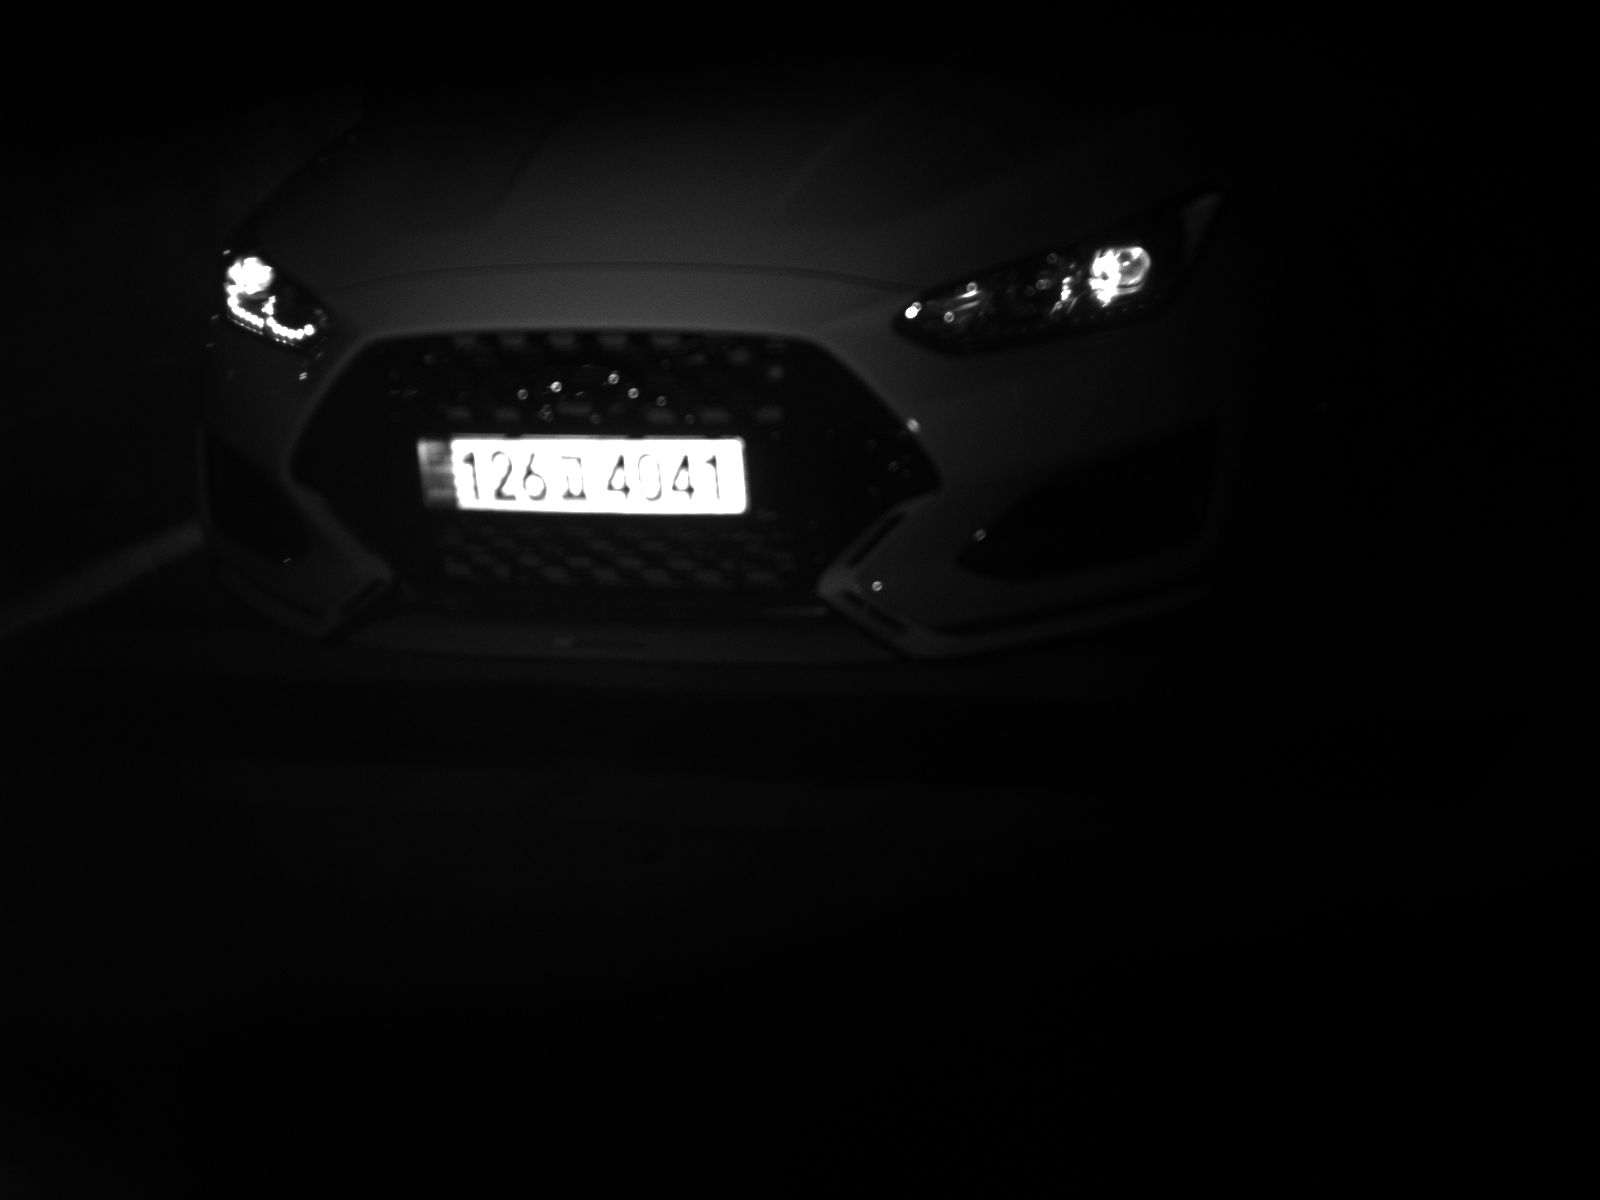car: (154, 1, 1435, 745)
plate: (417, 435, 750, 517)
